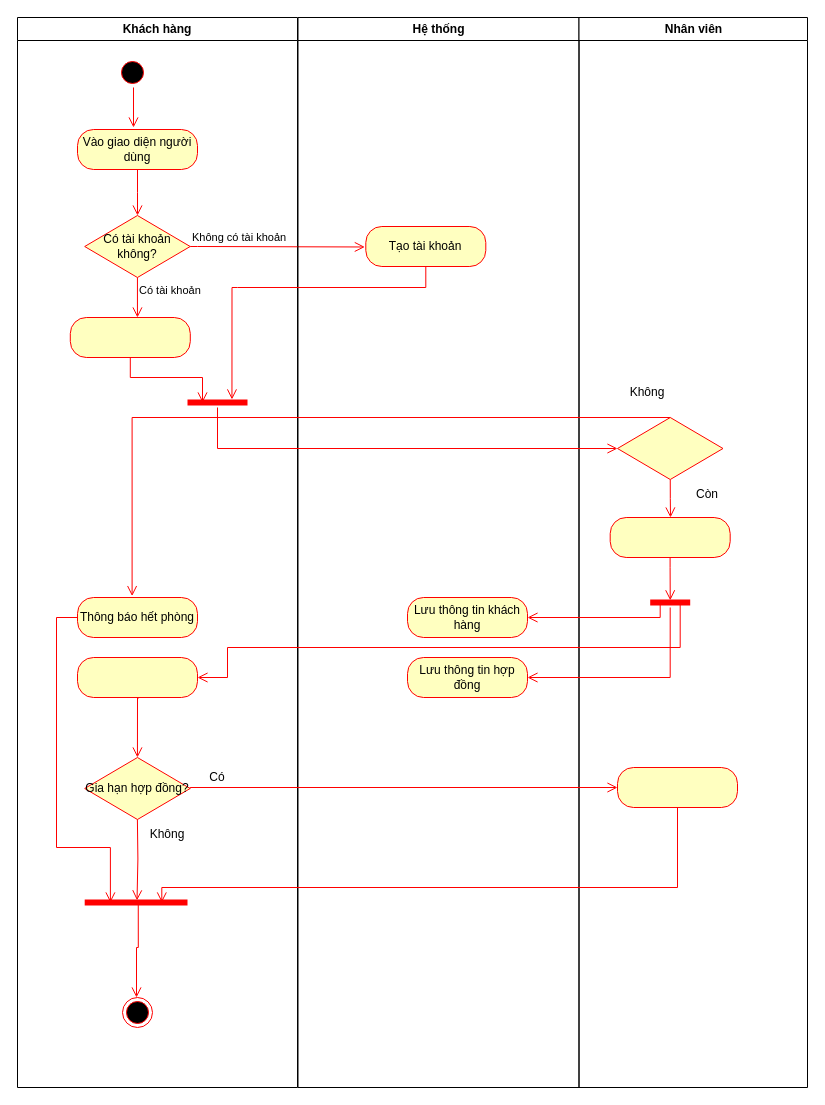
The diagram is 825 pixels wide and 1105 high, and some of its shapes have lost their labels. The shapes that lost their labels are listed below. From the top down, each one's centre as x and y in pixels, then its label:
point 129,337: Nhập thông tin đăng nhập
point 669,448: Kiểm tra còn phòng không?
point 669,537: Làm hợp đồng
point 137,677: Nhận hợp đồng
point 677,787: Làm thủ tục gia hạn hợp đồng
